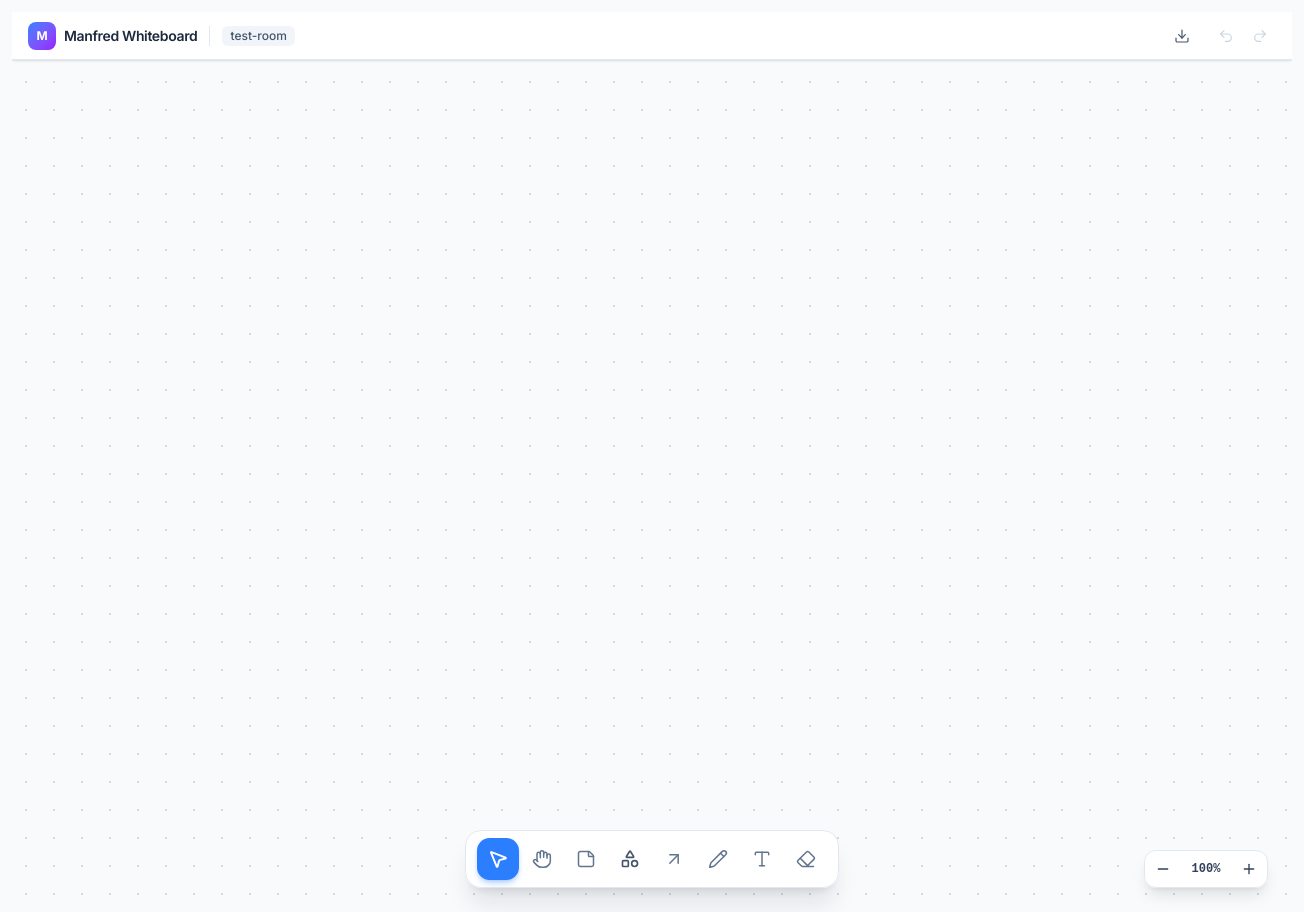
Test: App › creates a text object where the canvas is clicked
Click the button named "Text" at (762,859), box [742,839,782,879]
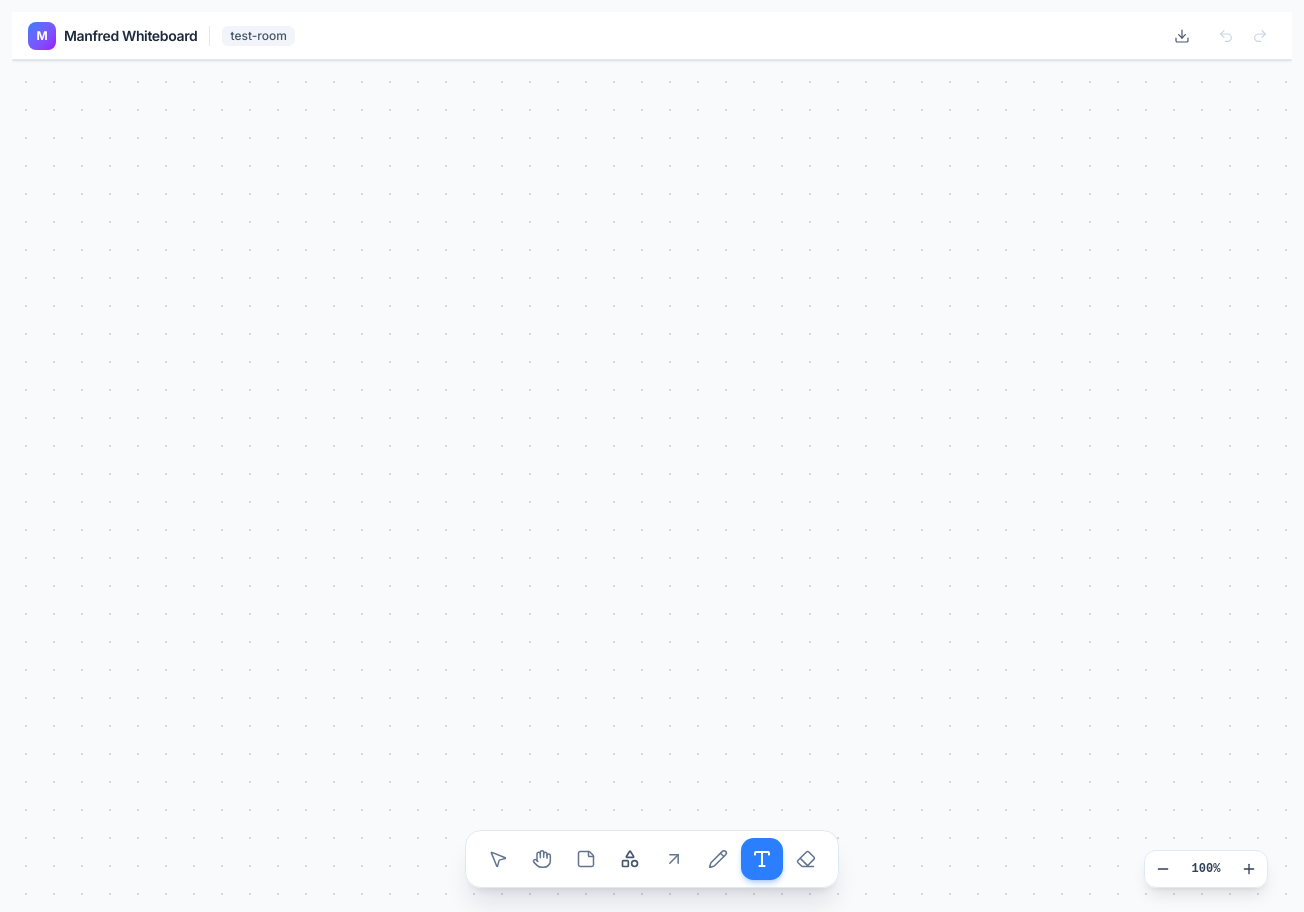
Press the mouse on the element named "Interactive canvas workspace" at (652,462), box [12,12,1292,911]
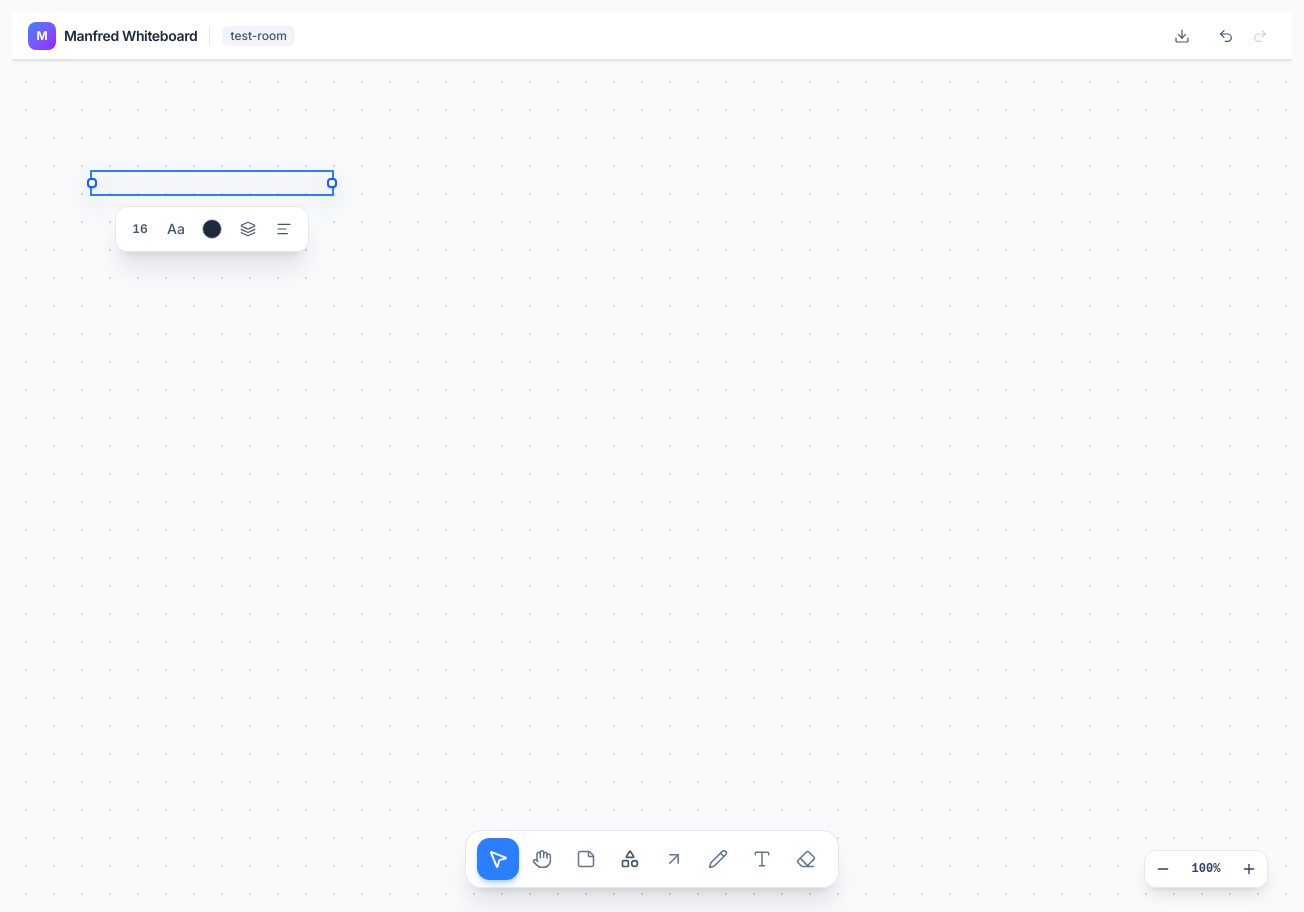
expect the element with test id "^text-(?!body$|line$)" is shown: met, box [92,172,332,194]
